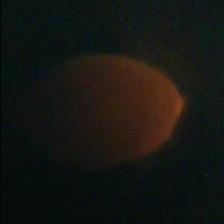fertile: (12, 49, 186, 167)
